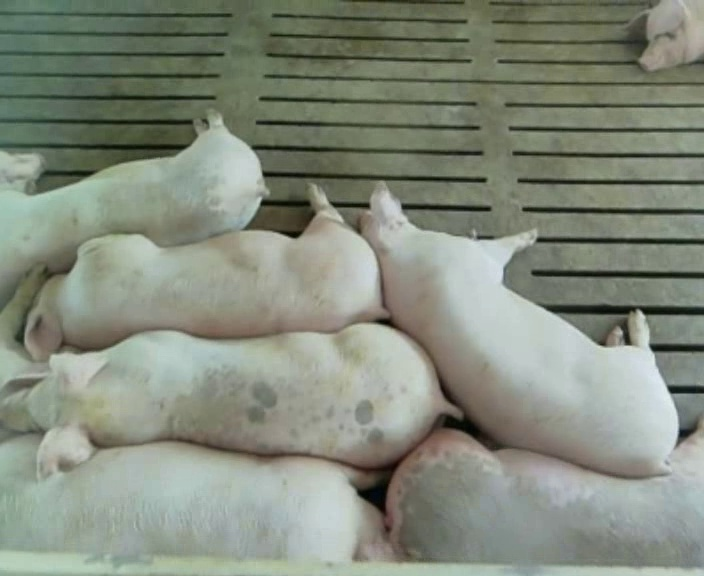pig: (362, 185, 677, 476), (0, 323, 461, 477), (24, 184, 387, 359), (0, 112, 267, 308), (386, 421, 703, 565), (626, 1, 703, 71)
